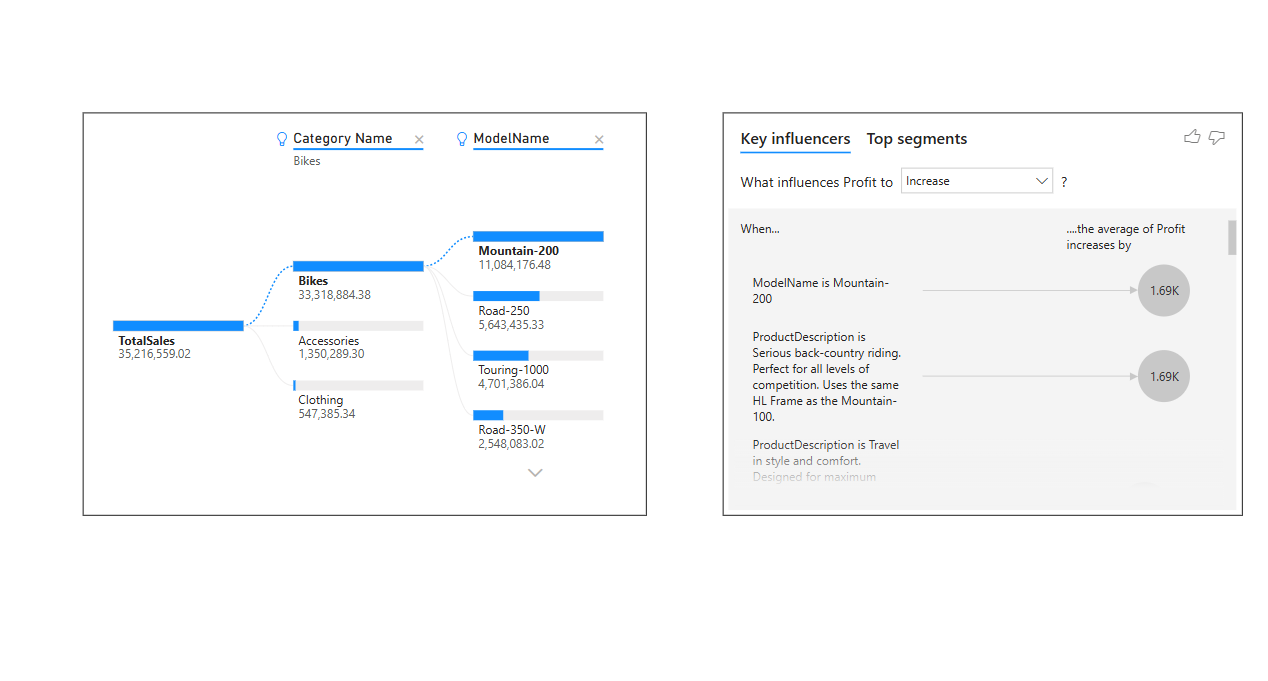

What the dashboard file says about the page in this screenshot:
{"tool":"powerbi","page":{"name":"AI Visuals","canvas":[1280,720],"ordinal":1},"visuals":[{"type":"decompositionTreeVisual","fields":{"Analyze":["All Measures.TotalSales"],"ExplainBy":["Products.Category Name","Products.ModelName"]},"box":[83.3,122.4,563.9,403.3],"z":0},{"type":"keyDriversVisual","fields":{"Target":["All Measures.Profit"],"ExplainBy":["Products.Category Name","Products.ModelName","Products.ProductColor","Products.ProductDescription","Total Sales.CustomerKey"]},"box":[723.3,122.4,519.6,403.3],"z":1000}]}

Visuals, with their boxes on the page's 1280x720 design canvas (x1, y1, x2, y2). These are canvas units, not pixel positions in the 1268x681 screenshot, which may show the page scaled, cropped or inside an application window:
decompositionTreeVisual - All Measures.TotalSales x Products.Category Name: bbox=(83, 122, 647, 526)
keyDriversVisual - All Measures.Profit x Products.Category Name: bbox=(723, 122, 1243, 526)
